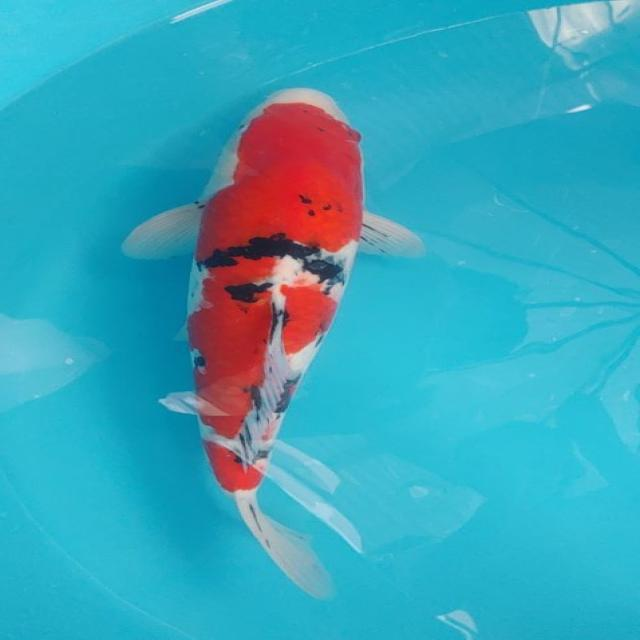Sanke: (119, 86, 426, 600)
